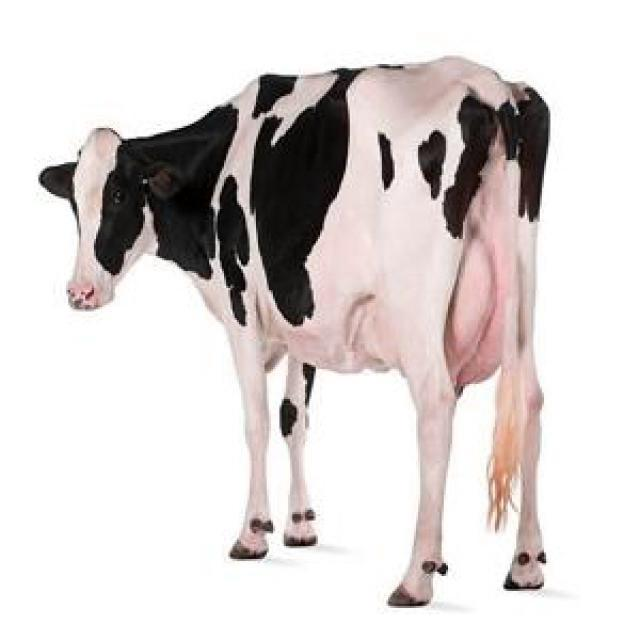cow: (39, 58, 549, 608)
